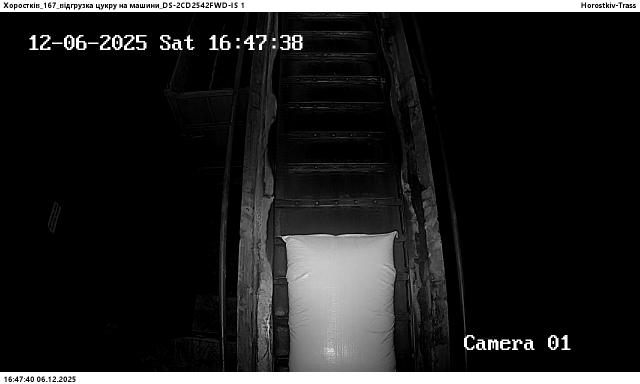bag: (282, 231, 396, 372)
